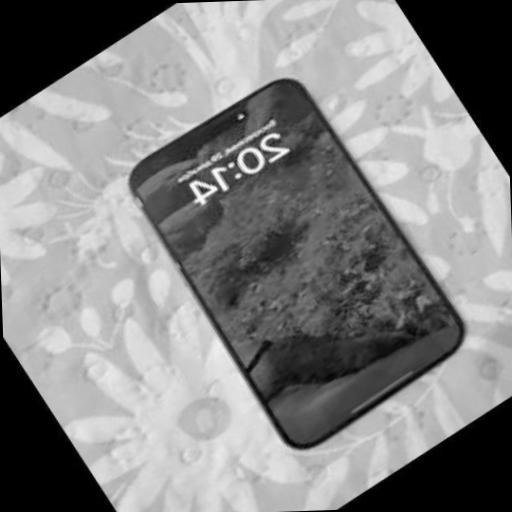phone: (128, 77, 473, 454)
